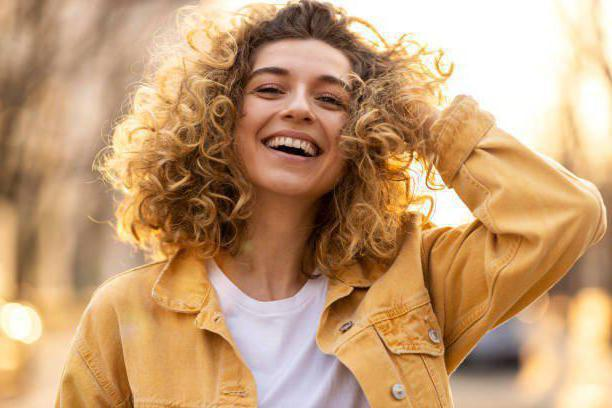Sober: (249, 45, 345, 185)
